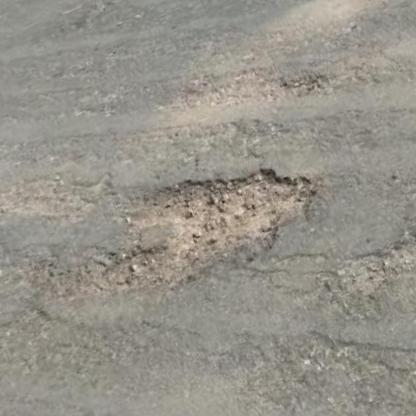pothole: (62, 126, 331, 323)
